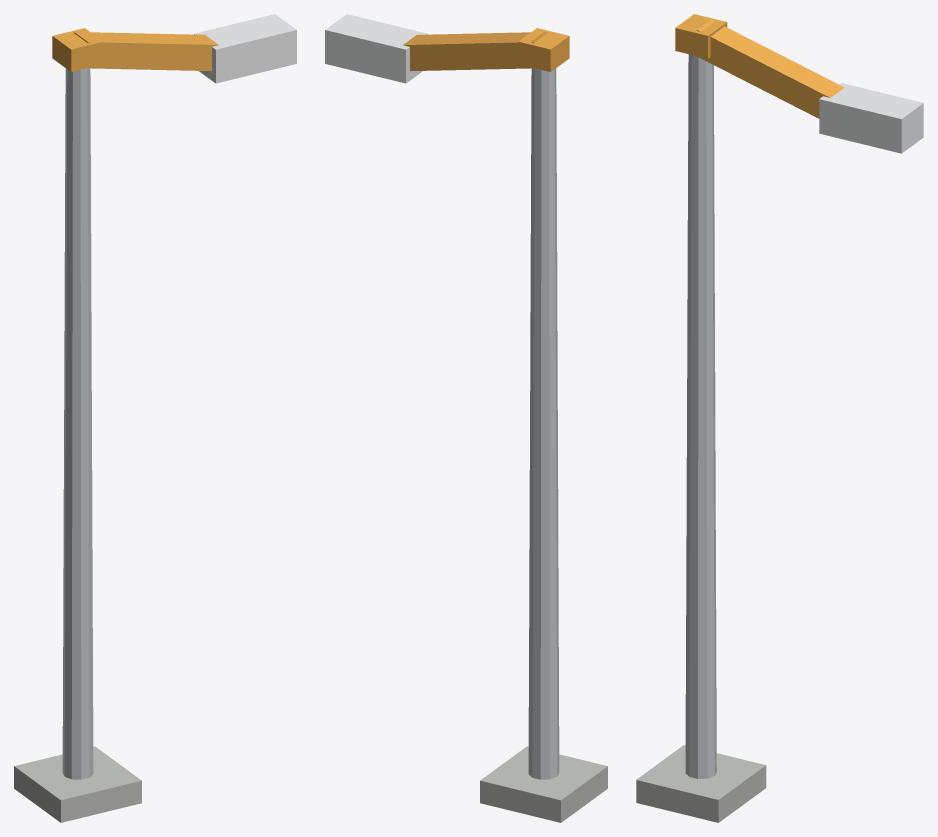
The model's file is windsock-mast.glb.
The picture shows the model from 3 angles, left to right: view 1: azimuth 30°, elevation 25°; view 2: azimuth 150°, elevation 25°; view 3: azimuth 330°, elevation 25°; orthographic projection.
Parts seen in each view (by area): view 1: windsock-mast, sock/shell, sock/orange; view 2: windsock-mast, sock/shell, sock/orange; view 3: windsock-mast, sock/shell, sock/orange.
Boxes of the visible parts, x1,y1,x2,y2 form: windsock-mast: (14,28,141,822); sock/shell: (194,14,296,83); sock/orange: (74,32,218,71); windsock-mast: (480,28,607,822); sock/shell: (325,14,427,83); sock/orange: (403,32,547,71); windsock-mast: (636,14,766,822); sock/shell: (819,83,923,153); sock/orange: (697,19,844,118).
Size of the model in its own units: 0.92 by 2.68 by 0.3.
